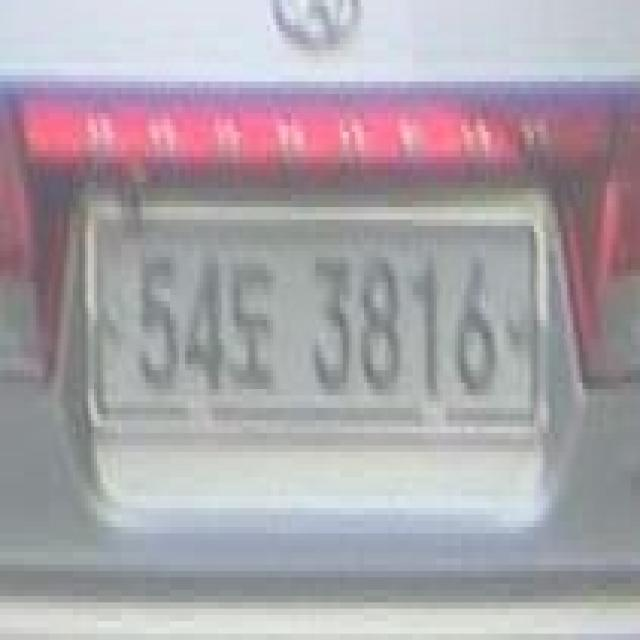1: (406, 213, 446, 408)
3: (312, 244, 355, 402)
4: (182, 220, 227, 402)
5: (127, 238, 179, 402)
6: (455, 251, 507, 414)
8: (355, 238, 409, 396)
do: (222, 264, 282, 389)
license_plate: (79, 207, 543, 427)
